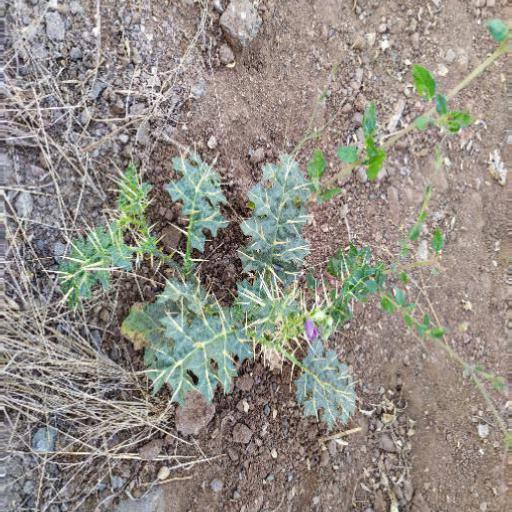weed: (67, 147, 362, 426)
